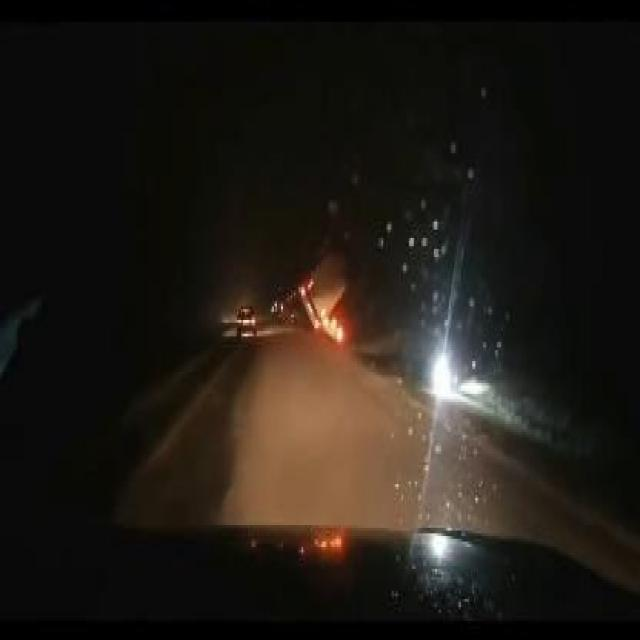accident: (283, 246, 346, 331)
